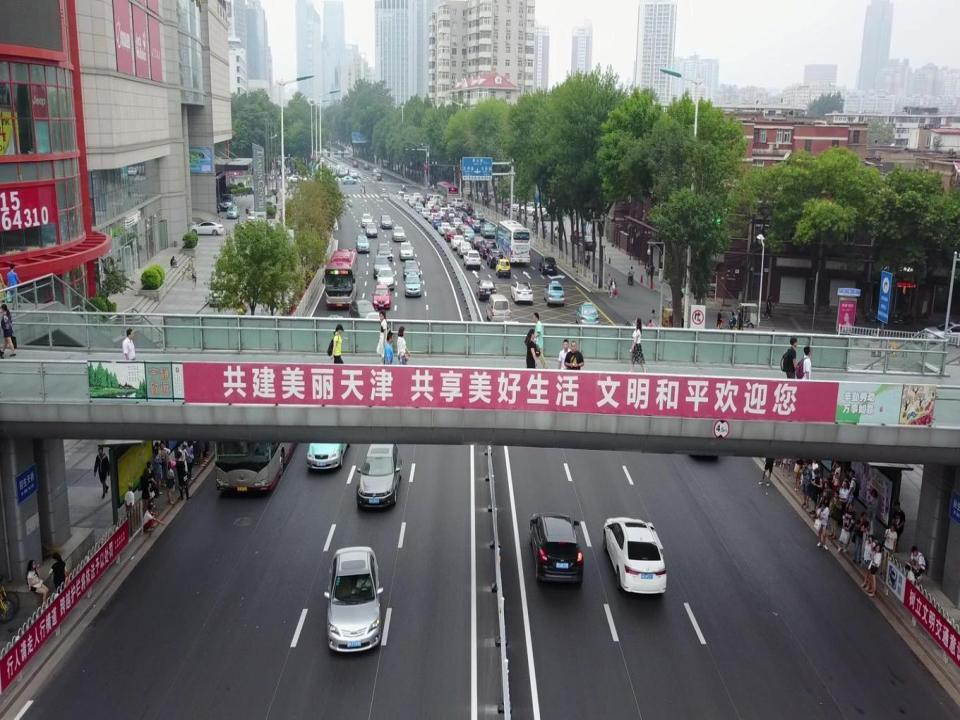bus: (214, 390, 303, 496), (323, 246, 358, 308), (496, 219, 531, 266), (436, 181, 459, 204)
car: (323, 546, 384, 650), (602, 516, 668, 600), (527, 509, 585, 589), (356, 442, 402, 510), (306, 422, 350, 468), (350, 299, 376, 325), (509, 279, 533, 305), (543, 280, 564, 307), (403, 271, 424, 297), (188, 221, 223, 236), (372, 283, 392, 309), (366, 312, 382, 342), (373, 253, 391, 279), (475, 278, 497, 299), (377, 267, 395, 291), (402, 259, 421, 279), (486, 248, 504, 269), (538, 255, 557, 274), (464, 249, 480, 271), (377, 241, 393, 262), (354, 234, 370, 254), (480, 239, 496, 259), (398, 241, 414, 260), (537, 210, 560, 222), (220, 192, 234, 211), (496, 258, 510, 277), (528, 203, 550, 215), (456, 240, 472, 256), (481, 222, 496, 239), (391, 226, 406, 242), (248, 210, 262, 227), (451, 234, 464, 251), (438, 220, 451, 237), (519, 203, 540, 213), (361, 212, 373, 228), (471, 236, 484, 250), (461, 202, 474, 216), (289, 173, 307, 183), (227, 204, 239, 219), (365, 222, 377, 237), (380, 214, 392, 229), (511, 200, 529, 210), (444, 228, 457, 241), (472, 207, 484, 221), (428, 212, 440, 225), (450, 217, 462, 229), (457, 223, 469, 235), (450, 206, 462, 218), (470, 220, 482, 232), (463, 228, 474, 241), (433, 218, 443, 230), (418, 208, 430, 218), (452, 198, 464, 208), (401, 194, 411, 205), (431, 204, 441, 215), (442, 203, 453, 213), (413, 202, 423, 212), (394, 191, 404, 201), (417, 196, 427, 206), (438, 207, 448, 217), (458, 209, 467, 220), (425, 201, 435, 210), (431, 193, 440, 203), (406, 199, 416, 207), (412, 192, 422, 200)
truck: (444, 211, 455, 224)
van: (487, 292, 510, 324)
